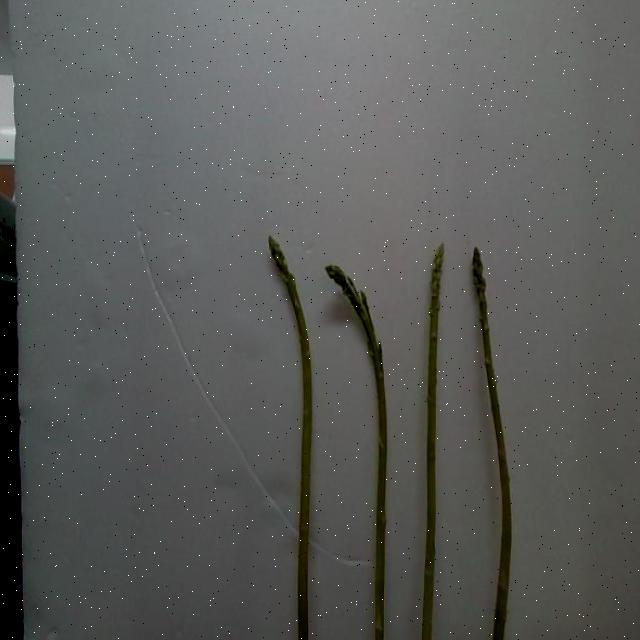aspargus: (323, 266, 386, 640), (269, 240, 315, 640), (474, 250, 514, 640), (421, 248, 450, 640)
